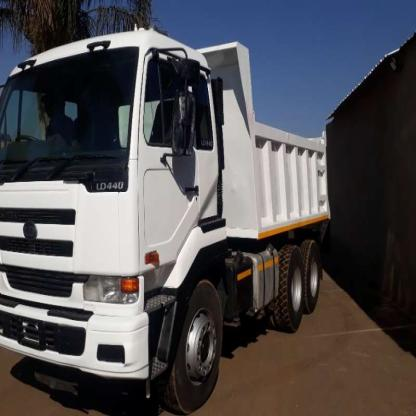dump_truck: (5, 13, 344, 415)
